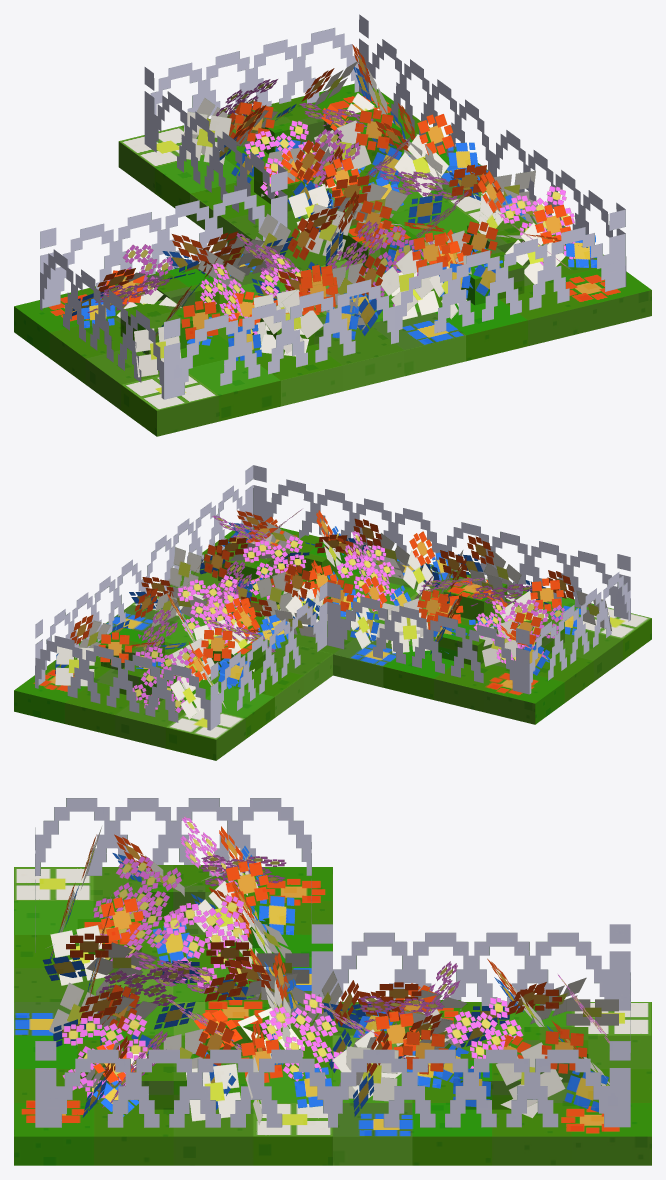
The model's file is C3_garden04.FBX.
3 renders of one model, top to bottom at view 1: azimuth 30°, elevation 25°; view 2: azimuth 150°, elevation 25°; view 3: azimuth 270°, elevation 25°, orthographic. The views are drawn at different scales.
Parts seen in each view (by area): view 1: Box004, Box002, Box003, Plane045, Plane047, Plane050, Plane001, Plane017, Plane040, Plane028, Plane051, Plane052 (+31 smaller); view 2: Box003, Box004, Plane050, Box002, Plane001, Plane045, Plane047, Plane051, Plane002, Plane027, Plane052, Plane039 (+28 smaller); view 3: Box002, Box003, Box004, Plane049, Plane046, Plane051, Plane052, Plane018, Plane026, Plane035, Plane039, Plane010 (+26 smaller).
Part boxes in pixels (bbox=[...]): Box004: bbox=[14, 254, 404, 436]; Box002: bbox=[279, 191, 651, 376]; Box003: bbox=[118, 83, 487, 247]; Plane045: bbox=[395, 209, 625, 343]; Plane047: bbox=[164, 279, 394, 399]; Plane050: bbox=[40, 171, 287, 308]; Plane001: bbox=[150, 27, 358, 130]; Plane017: bbox=[134, 272, 359, 377]; Plane040: bbox=[288, 114, 478, 232]; Plane028: bbox=[184, 101, 410, 185]; Plane051: bbox=[144, 67, 287, 242]; Plane052: bbox=[40, 249, 163, 399]; Box003: bbox=[14, 605, 332, 760]; Box004: bbox=[333, 569, 651, 724]; Plane050: bbox=[327, 582, 529, 694]; Box002: bbox=[131, 527, 441, 654]; Plane001: bbox=[35, 635, 210, 730]; Plane045: bbox=[253, 465, 441, 573]; Plane047: bbox=[442, 522, 630, 620]; Plane051: bbox=[210, 582, 327, 729]; Plane002: bbox=[168, 544, 319, 627]; Plane027: bbox=[55, 628, 250, 689]; Plane052: bbox=[529, 572, 630, 693]; Plane039: bbox=[345, 531, 453, 649]; Box002: bbox=[14, 1000, 332, 1165]; Box003: bbox=[333, 1000, 651, 1165]; Box004: bbox=[14, 865, 332, 1001]; Plane049: bbox=[333, 1041, 630, 1127]; Plane046: bbox=[35, 1041, 332, 1127]; Plane051: bbox=[311, 924, 630, 1010]; Plane052: bbox=[35, 798, 311, 875]; Plane018: bbox=[50, 861, 295, 985]; Plane026: bbox=[346, 1029, 608, 1112]; Plane035: bbox=[186, 1011, 444, 1121]; Plane039: bbox=[42, 933, 309, 983]; Plane010: bbox=[49, 982, 235, 1109].
Bounding box in the file's own units: 236 × 47.24 × 236.
2 materials, 2 textured.
